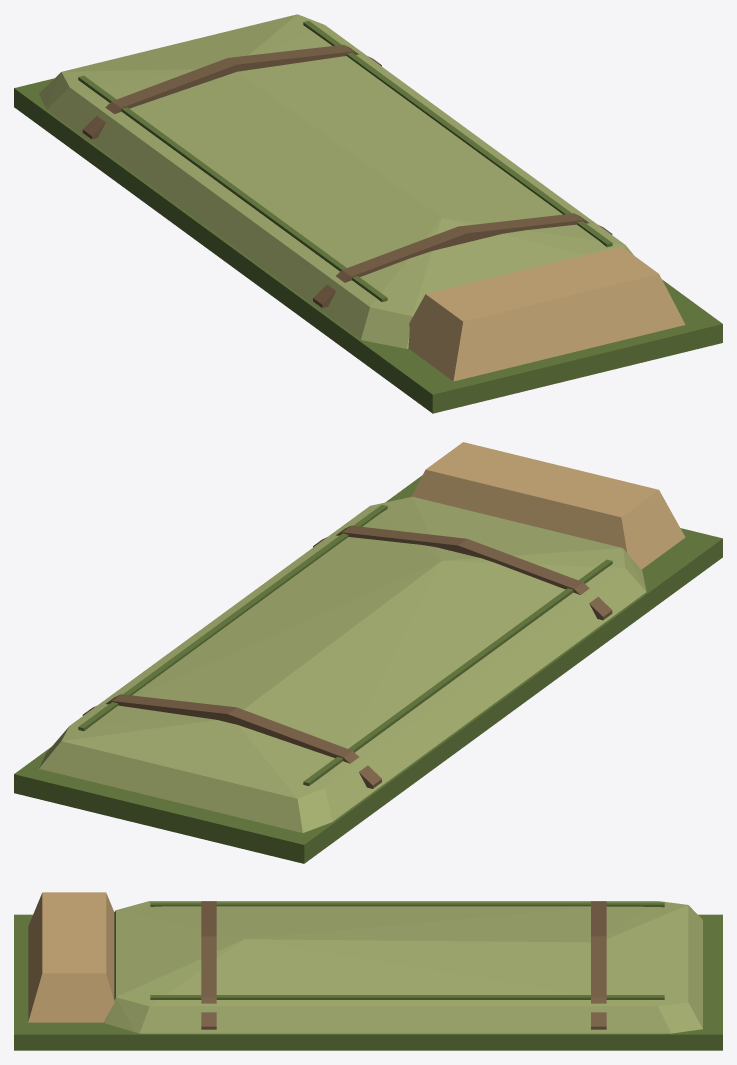
The model's file is TW_CAMP_BEDROLL_OPEN_A_LOD0.glb.
3 renders of one model, top to bottom at view 1: azimuth 30°, elevation 25°; view 2: azimuth 150°, elevation 25°; view 3: azimuth 270°, elevation 25°, orthographic. The views are drawn at different scales.
Visible parts, largest first — view 1: TW_CAMP_BEDROLL_OPEN_A; view 2: TW_CAMP_BEDROLL_OPEN_A; view 3: TW_CAMP_BEDROLL_OPEN_A.
Part boxes in pixels (bbox=[...]): TW_CAMP_BEDROLL_OPEN_A: bbox=[14, 14, 722, 413]; TW_CAMP_BEDROLL_OPEN_A: bbox=[14, 442, 722, 863]; TW_CAMP_BEDROLL_OPEN_A: bbox=[14, 892, 722, 1050].
Bounding box in the file's own units: 0.8 × 0.18 × 2.
